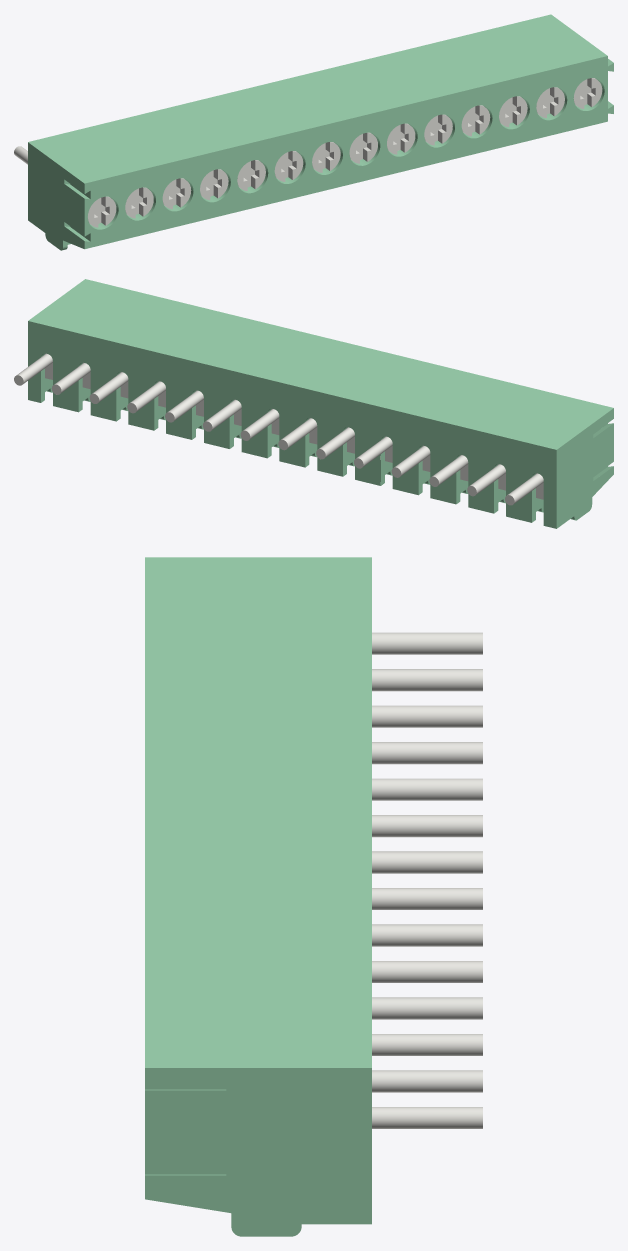
The model's file is TerminalBlock_Phoenix_PT-1,5-14-3.5-H_1x14_P3.50mm_Horizontal.glb.
3 renders of one model, top to bottom at view 1: azimuth 30°, elevation 25°; view 2: azimuth 150°, elevation 25°; view 3: azimuth 270°, elevation 25°, orthographic. The views are drawn at different scales.
Visible parts, largest first — view 1: Shape_IndexedFaceSet.002, Shape_IndexedFaceSet.089, Shape_IndexedFaceSet.001; view 2: Shape_IndexedFaceSet.002, Shape_IndexedFaceSet, Shape_IndexedFaceSet.001, Shape_IndexedFaceSet.307, Shape_IndexedFaceSet.262, Shape_IndexedFaceSet.267, Shape_IndexedFaceSet.242, Shape_IndexedFaceSet.252, Shape_IndexedFaceSet.272, Shape_IndexedFaceSet.282, Shape_IndexedFaceSet.287, Shape_IndexedFaceSet.292 (+5 smaller); view 3: Shape_IndexedFaceSet.002, Shape_IndexedFaceSet.003, Shape_IndexedFaceSet.247, Shape_IndexedFaceSet.257, Shape_IndexedFaceSet.267, Shape_IndexedFaceSet.277, Shape_IndexedFaceSet.282, Shape_IndexedFaceSet.287, Shape_IndexedFaceSet.292, Shape_IndexedFaceSet.297, Shape_IndexedFaceSet.302, Shape_IndexedFaceSet.307 (+6 smaller).
Boxes of the visible parts, left/top/right/bottom form: Shape_IndexedFaceSet.002: left=28, top=14, right=607, bottom=183; Shape_IndexedFaceSet.089: left=84, top=56, right=613, bottom=248; Shape_IndexedFaceSet.001: left=28, top=142, right=84, bottom=250; Shape_IndexedFaceSet.002: left=28, top=279, right=613, bottom=449; Shape_IndexedFaceSet: left=28, top=321, right=556, bottom=528; Shape_IndexedFaceSet.001: left=556, top=408, right=613, bottom=528; Shape_IndexedFaceSet.307: left=507, top=473, right=543, bottom=503; Shape_IndexedFaceSet.262: left=167, top=390, right=203, bottom=420; Shape_IndexedFaceSet.267: left=205, top=399, right=241, bottom=429; Shape_IndexedFaceSet.242: left=16, top=353, right=52, bottom=383; Shape_IndexedFaceSet.252: left=92, top=372, right=128, bottom=402; Shape_IndexedFaceSet.272: left=243, top=409, right=279, bottom=438; Shape_IndexedFaceSet.282: left=318, top=427, right=354, bottom=457; Shape_IndexedFaceSet.287: left=356, top=436, right=392, bottom=466; Shape_IndexedFaceSet.292: left=394, top=446, right=430, bottom=476; Shape_IndexedFaceSet.002: left=145, top=557, right=371, bottom=1067; Shape_IndexedFaceSet.003: left=145, top=1068, right=371, bottom=1236; Shape_IndexedFaceSet.247: left=372, top=1070, right=482, bottom=1092; Shape_IndexedFaceSet.257: left=372, top=997, right=482, bottom=1019; Shape_IndexedFaceSet.267: left=372, top=924, right=482, bottom=946; Shape_IndexedFaceSet.277: left=372, top=851, right=482, bottom=873; Shape_IndexedFaceSet.282: left=372, top=815, right=482, bottom=837; Shape_IndexedFaceSet.287: left=372, top=778, right=482, bottom=800; Shape_IndexedFaceSet.292: left=372, top=742, right=482, bottom=764; Shape_IndexedFaceSet.297: left=372, top=705, right=482, bottom=727; Shape_IndexedFaceSet.302: left=372, top=669, right=482, bottom=691; Shape_IndexedFaceSet.307: left=372, top=632, right=482, bottom=654.
Bounding box in the file's own units: 19.52 × 2.97 × 5.39.
